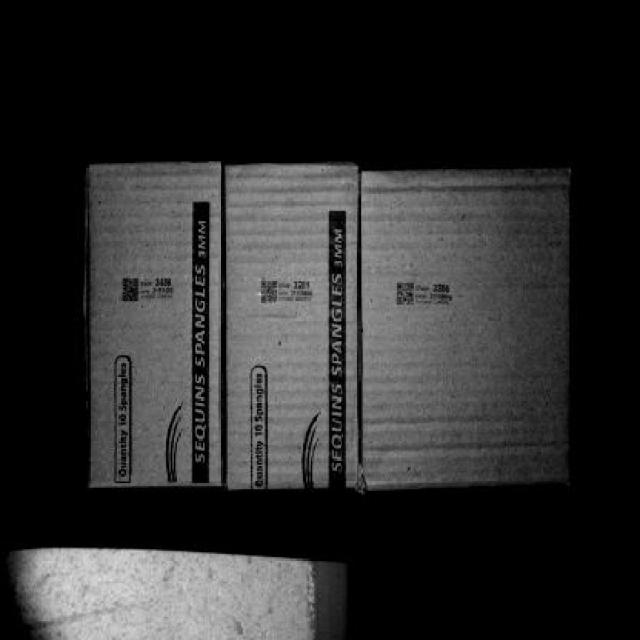cardboxes: (364, 178, 570, 482), (94, 166, 229, 488), (231, 163, 364, 486)
